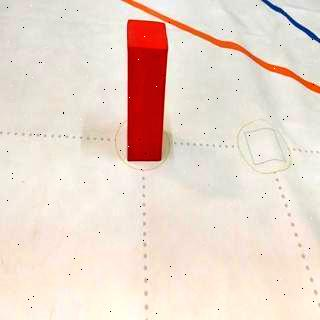redbox: (125, 19, 168, 161)
